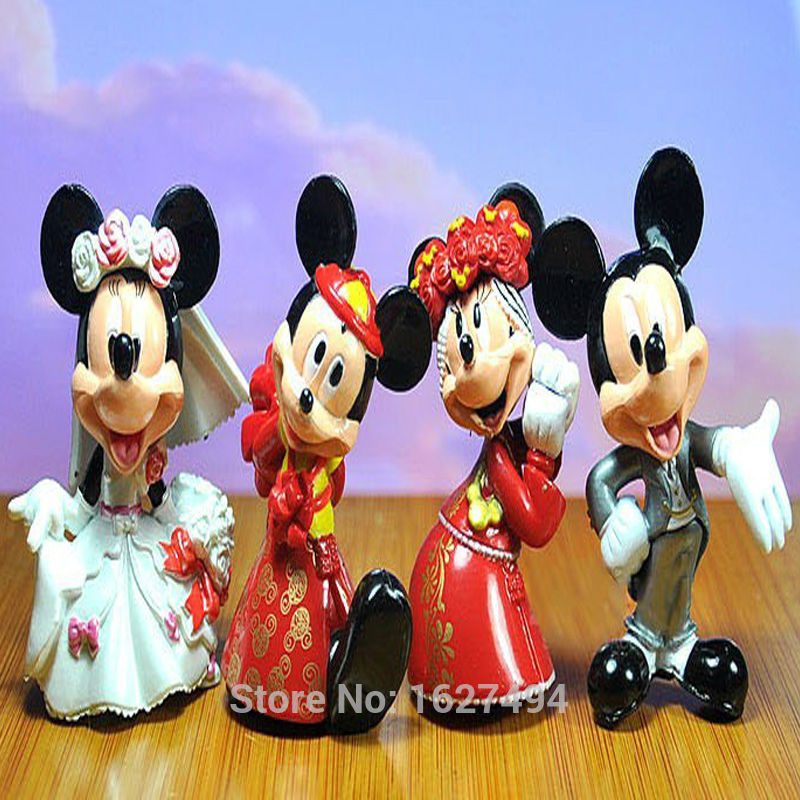Mickey: (526, 145, 713, 461), (273, 172, 433, 454)
